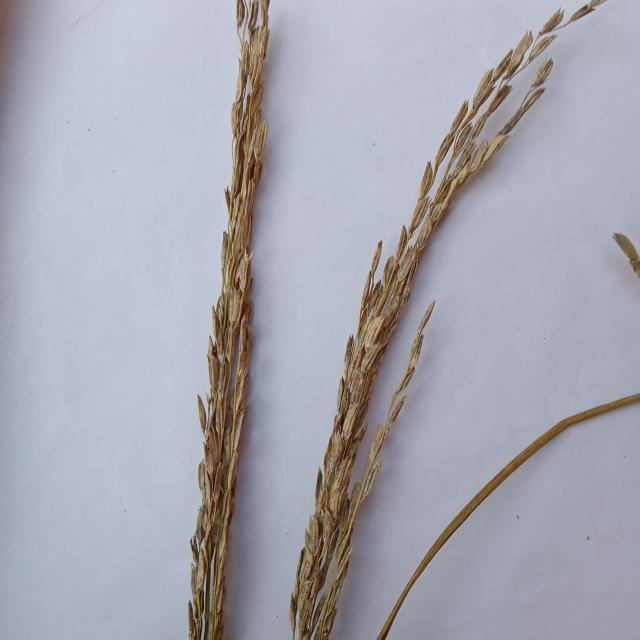Neck_Blast: (291, 0, 593, 640), (183, 0, 269, 640)
